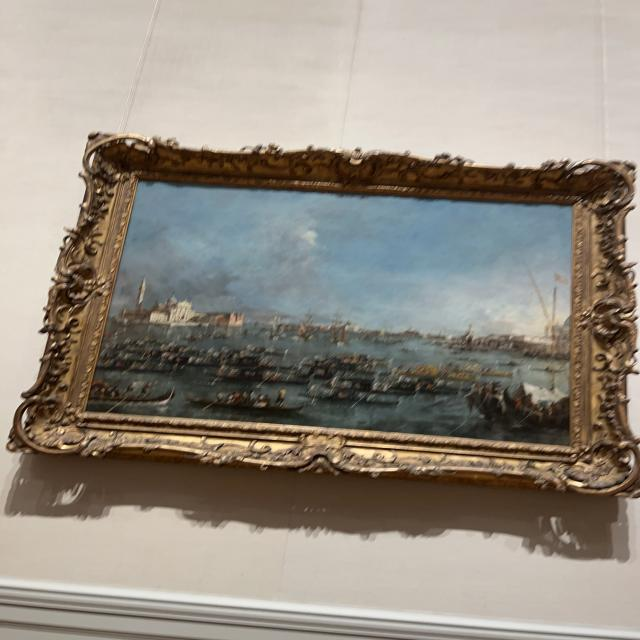ships: (90, 195, 574, 434)
